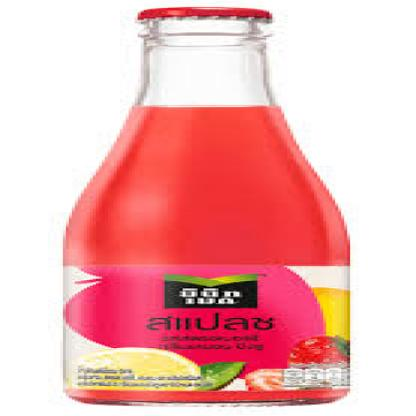Can: (64, 6, 357, 408)
